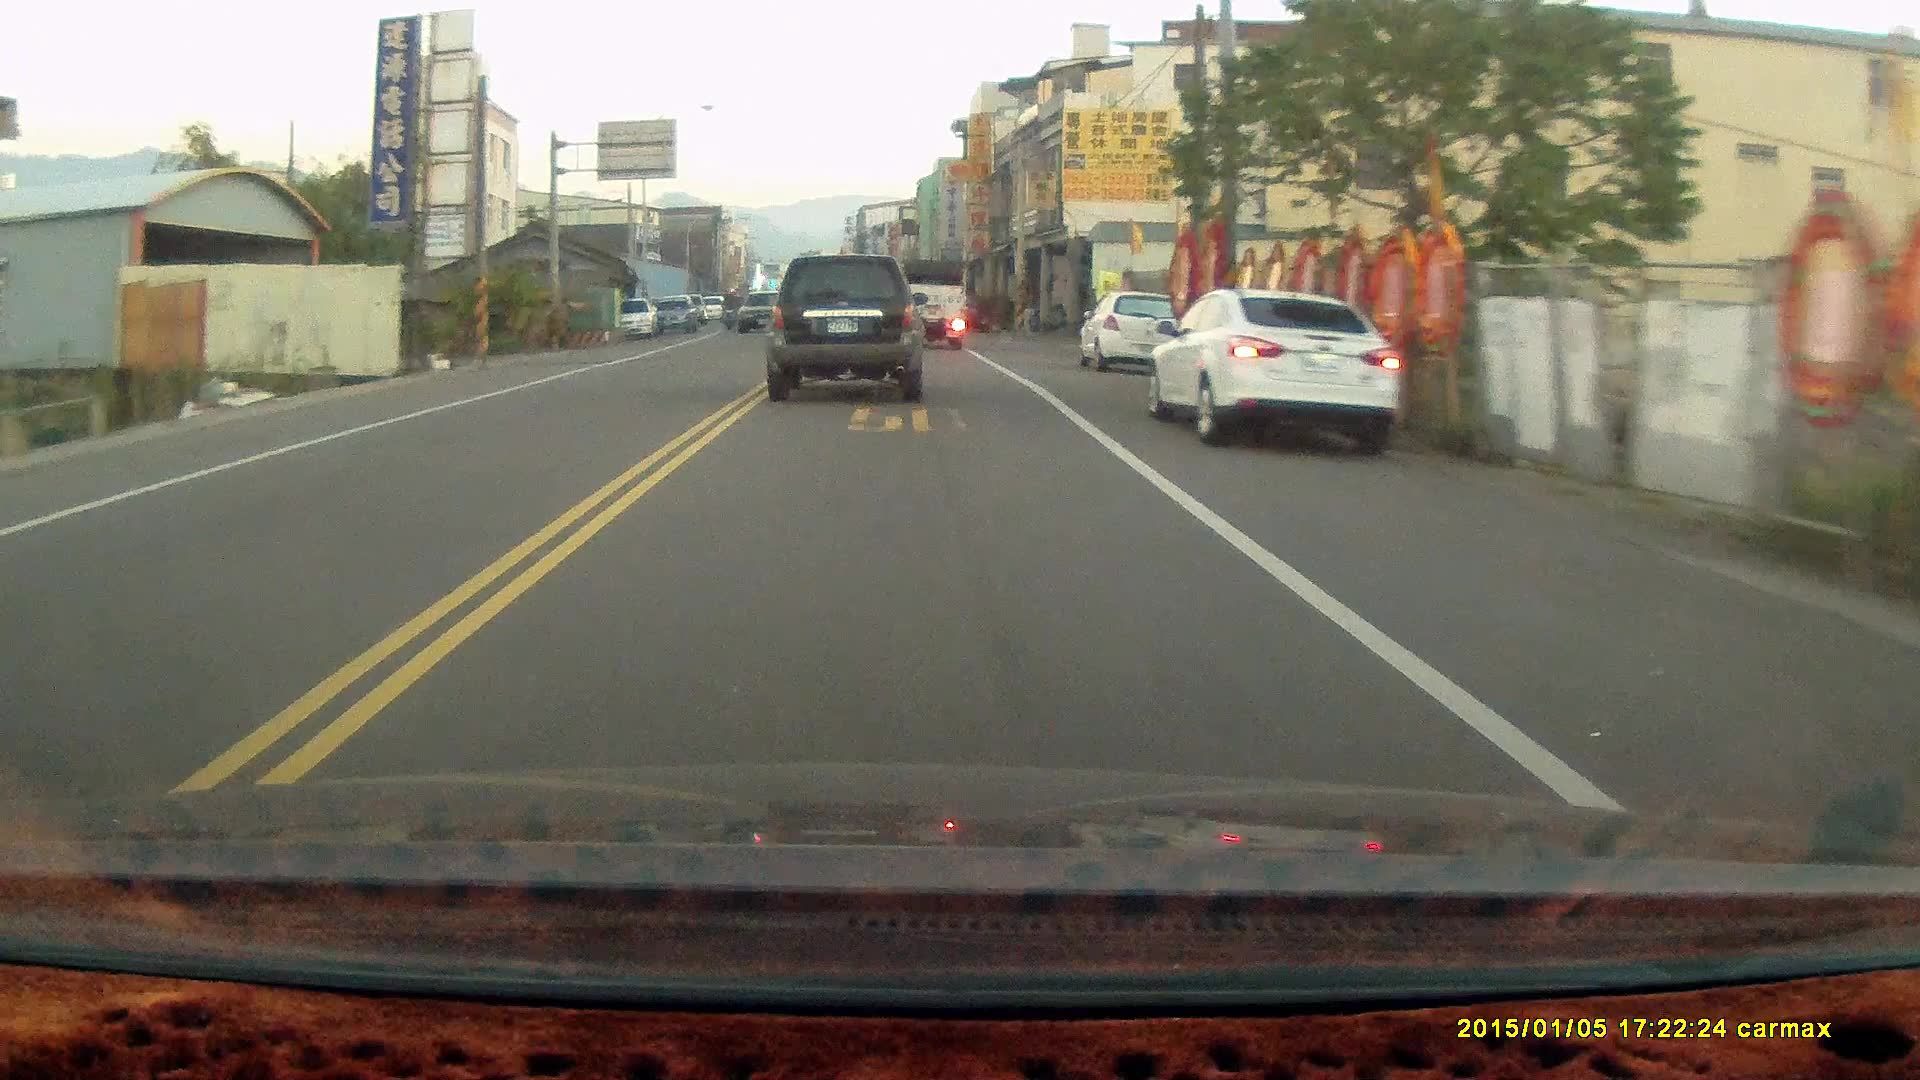vehicle: (1149, 290, 1402, 447), (767, 255, 928, 404), (1081, 290, 1182, 375), (894, 256, 971, 349)
